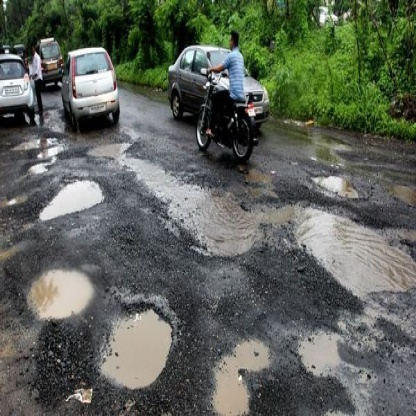no-pothole: (14, 254, 98, 330)
pothole: (246, 193, 416, 318), (70, 301, 191, 393), (7, 136, 140, 167), (33, 172, 111, 224), (303, 159, 373, 203)
